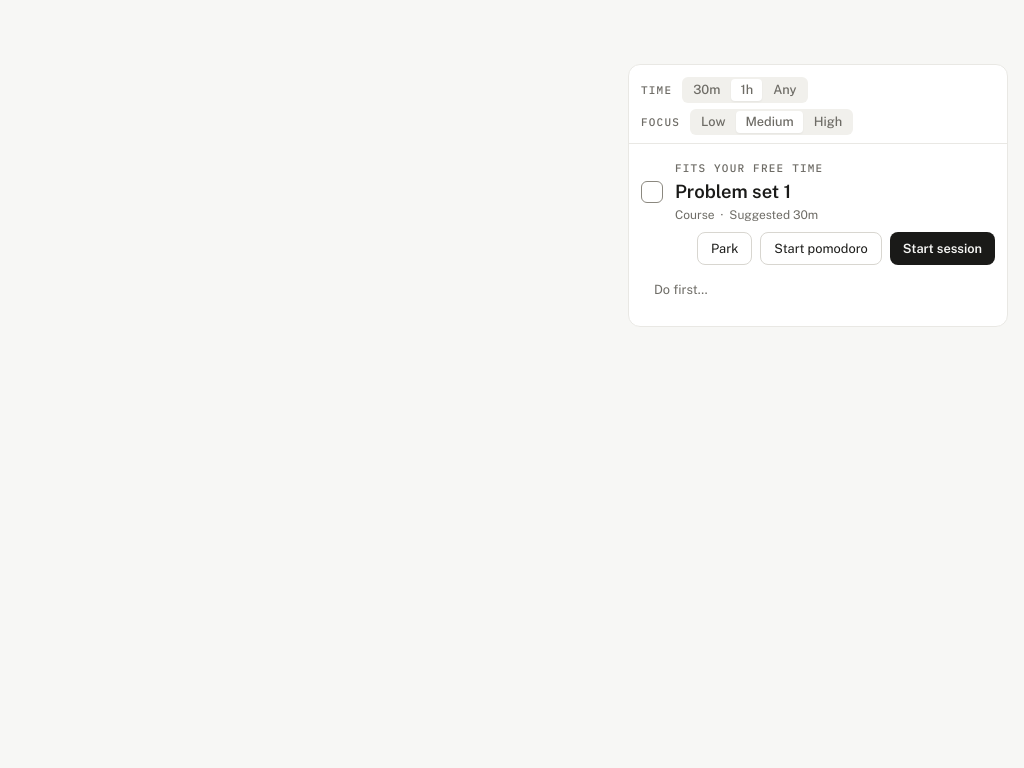
it: AssistantHost › parks the offered step, sets notice, and advances to the next recommendation
expect the heading "Problem set 1" is shown: met, box [675,180,791,202]
Click the button "Park".
click(725, 248)  # box [697,232,752,264]
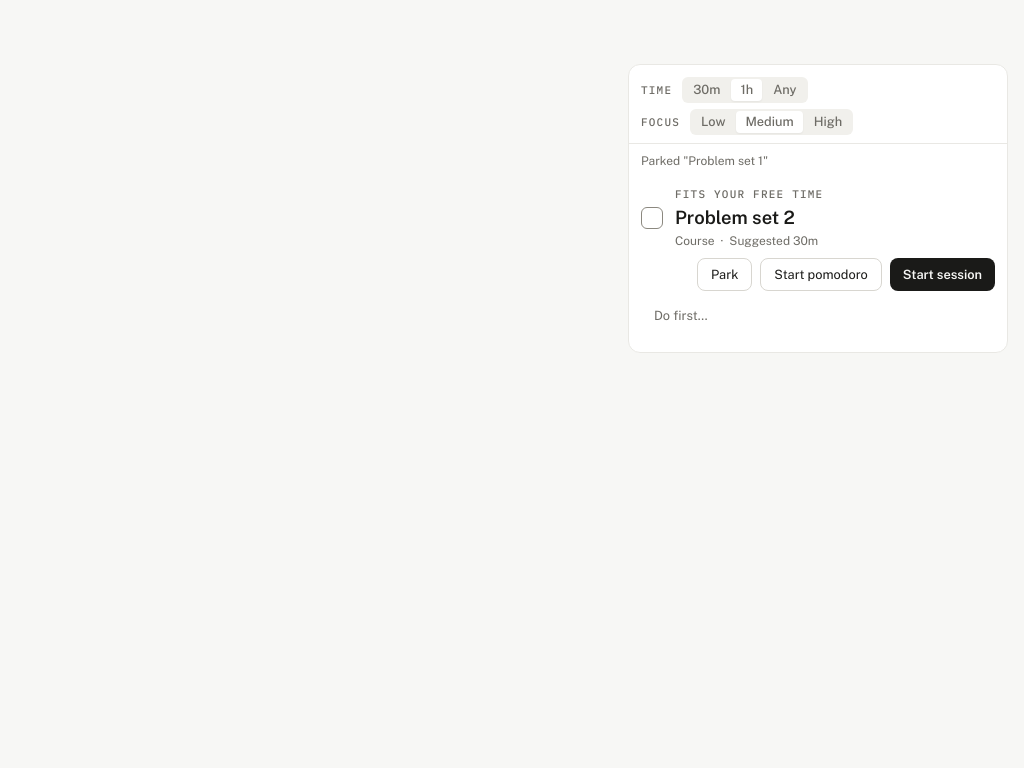
expect the text "Parked \"Problem set 1\"" is shown: met, box [641,154,768,168]
expect the heading "Problem set 2" is shown: met, box [675,206,795,228]
